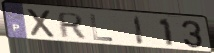1: (158, 18, 178, 48)
3: (181, 19, 205, 50)
I: (133, 15, 146, 47)
L: (89, 13, 115, 43)
R: (58, 11, 87, 40)
X: (25, 8, 58, 40)
